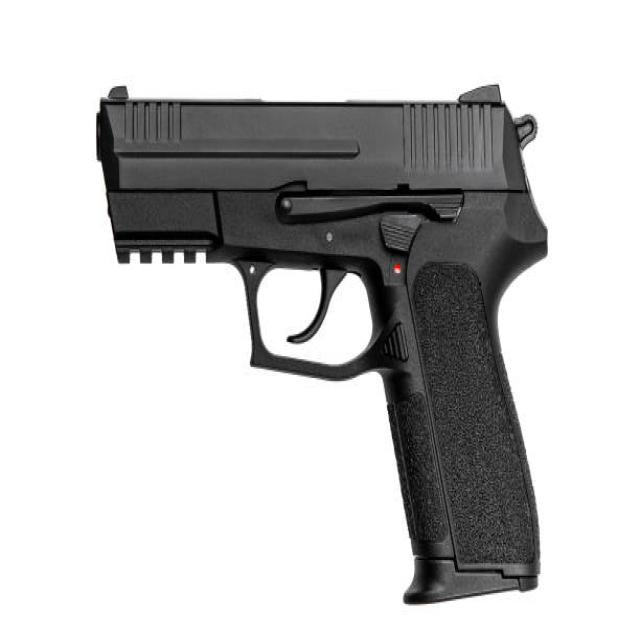pistol: (88, 74, 554, 614)
